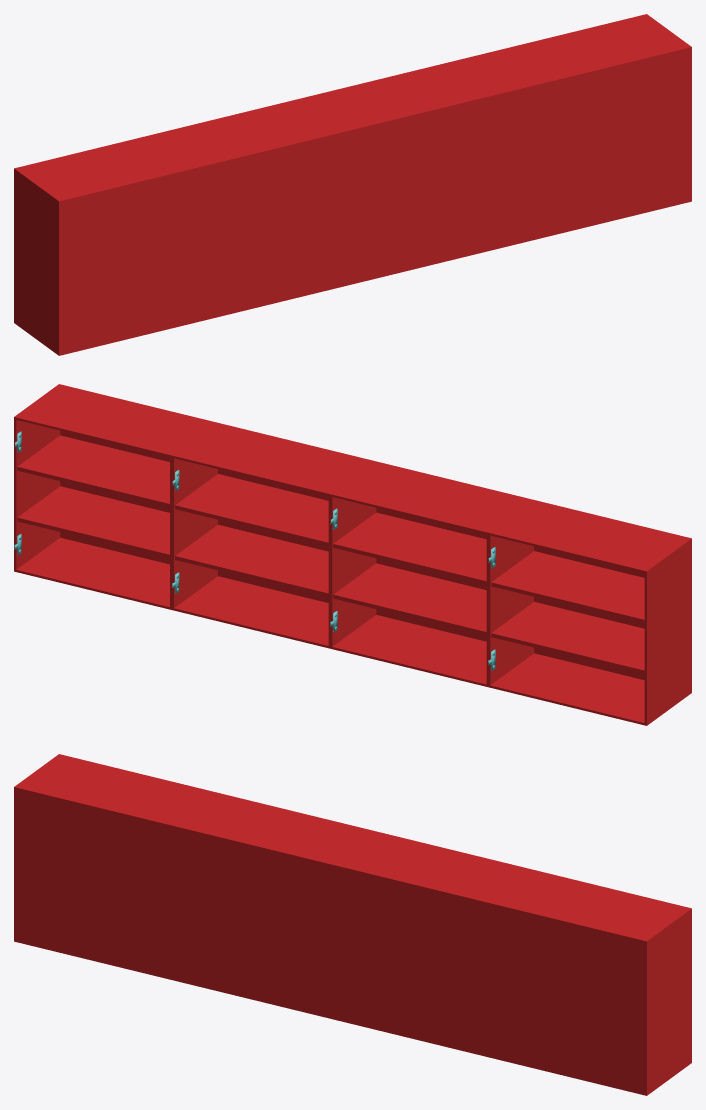
The model's file is kitchen_cabinet.fbx.
The picture shows the model from 3 angles, top to bottom: view 1: azimuth 30°, elevation 25°; view 2: azimuth 150°, elevation 25°; view 3: azimuth 330°, elevation 25°; orthographic projection.
Visible parts, largest first — view 1: HSHP_MOD_Kitchen_cabinets_01; view 2: HSHP_MOD_Kitchen_cabinets_01; view 3: HSHP_MOD_Kitchen_cabinets_01.
Boxes of the visible parts, <box> form: HSHP_MOD_Kitchen_cabinets_01: <box>14,14,691,355</box>; HSHP_MOD_Kitchen_cabinets_01: <box>14,384,691,725</box>; HSHP_MOD_Kitchen_cabinets_01: <box>14,754,691,1095</box>.
Size of the model in its own units: 65.74 by 15.34 by 8.36.
